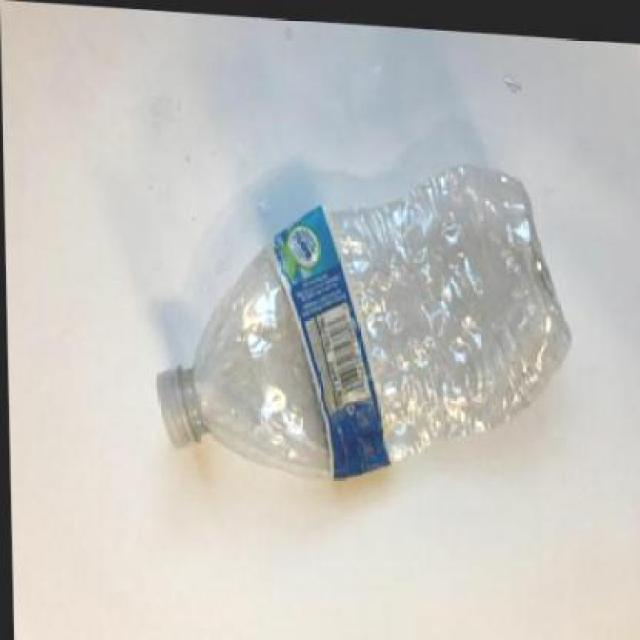Plastic: (141, 163, 575, 491)
